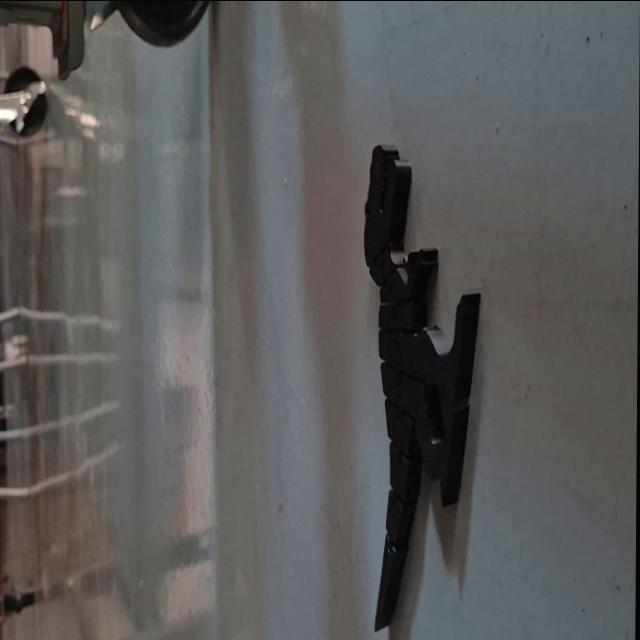dino: (360, 142, 483, 634)
